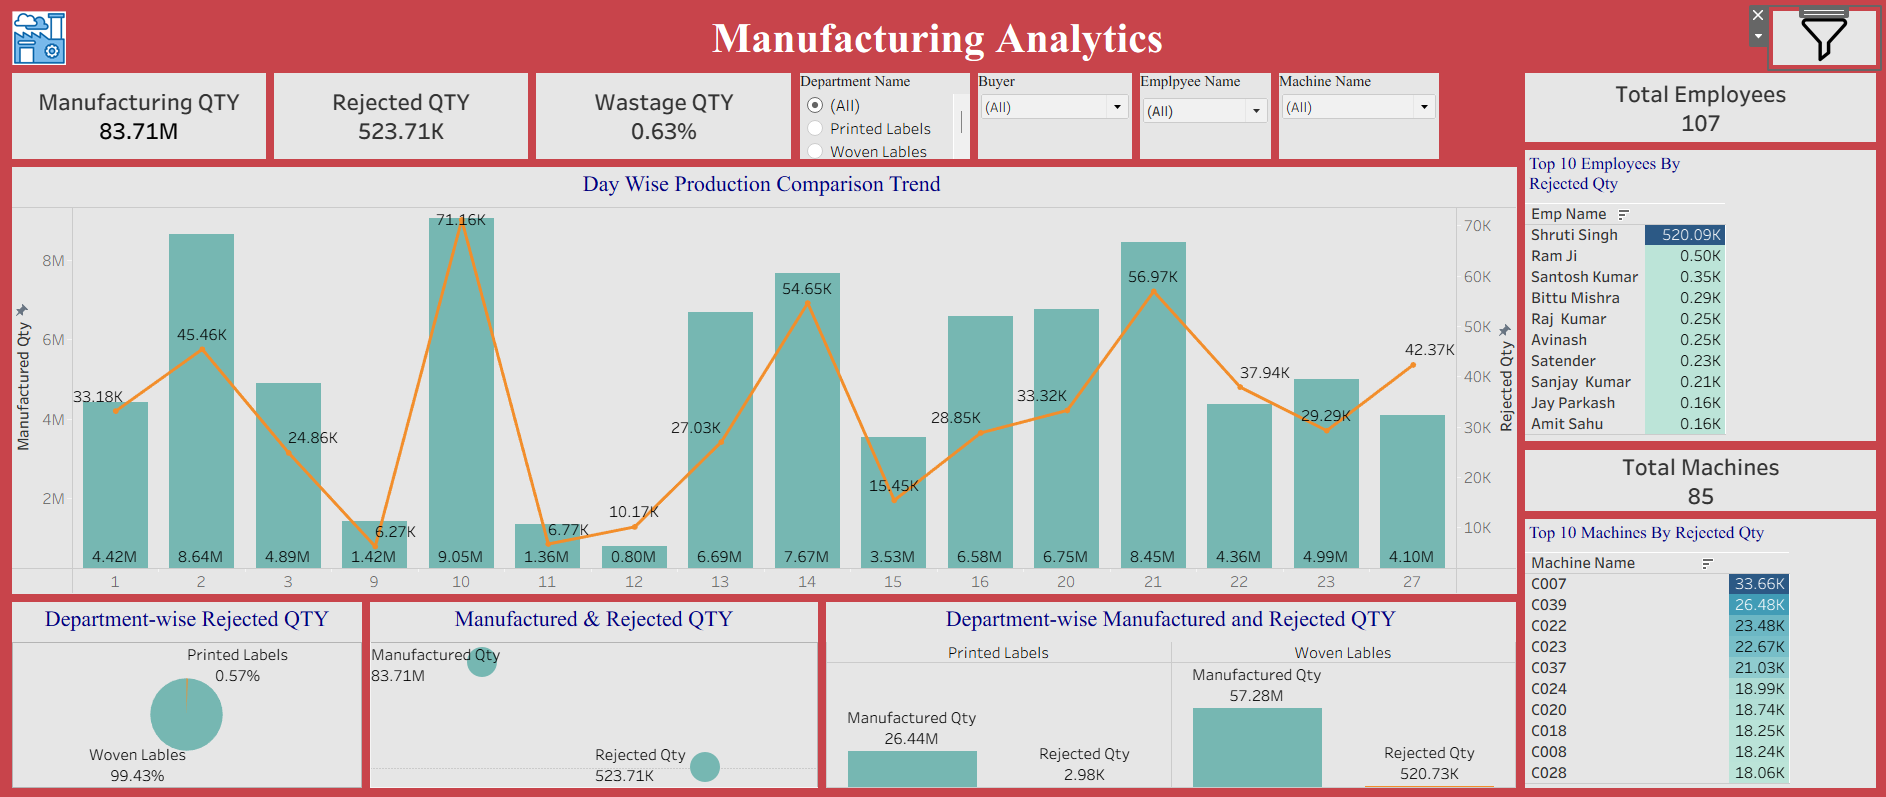

The page's visual inventory and layout, read from the dashboard file:
{"tool":"powerbi","page":{"name":"Page 1","canvas":[1280,720],"ordinal":0},"visuals":[{"type":"shape","box":[11.4,228.6,428.6,242.9],"z":0},{"type":"shape","box":[455.7,481.4,425.7,238.6],"z":1000},{"type":"shape","box":[458.6,227.1,422.9,244.3],"z":2000},{"type":"lineClusteredColumnComboChart","title":"Manufacture Vs Rejected Qty","fields":{"Y2":["Sum(PROD DATA.Rejected Qty)"],"Y":["Sum(PROD DATA.Manufactured Qty)"],"Category":["PROD DATA.Doc Date.Variation.Date Hierarchy.Month","PROD DATA.Doc Date.Variation.Date Hierarchy.Day"]},"box":[11.4,247.1,428.6,207.1],"z":3000},{"type":"clusteredColumnChart","title":"Machine Vs Rejected Qty","fields":{"Category":["PROD DATA.Machine Code"],"Y":["Sum(PROD DATA.Rejected Qty)"]},"box":[457.1,520,425.7,197.1],"z":4000},{"type":"clusteredColumnChart","title":"Department Wise Manufactured Vs Rejected","fields":{"Category":["PROD DATA.Department Name"],"Y":["Sum(PROD DATA.Manufactured Qty)","Sum(PROD DATA.Rejected Qty)"]},"box":[461.4,247.1,420,224.3],"z":5000},{"type":"shape","box":[11.4,481.4,428.6,238.6],"z":6000},{"type":"lineChart","title":"Production Comparison Trend","fields":{"Category":["PROD DATA.Doc Date.Variation.Date Hierarchy.Year","PROD DATA.Doc Date.Variation.Date Hierarchy.Quarter","PROD DATA.Doc Date.Variation.Date Hierarchy.Month","PROD DATA.Doc Date.Variation.Date Hierarchy.Day"],"Y":["Sum(PROD DATA.Rejected Qty)","Sum(PROD DATA.Produced Qty)"]},"box":[22.9,520,400,185.7],"z":7000},{"type":"slicer","fields":{"Values":["PROD DATA.Emp Name"]},"box":[927.7,470.3,300.1,203.4],"z":8000},{"type":"shape","box":[9.7,0,1270.4,107.4],"z":9000},{"type":"shape","box":[10.9,120.6,232.9,94.3],"z":9000,"group":"g2"},{"type":"shape","box":[264.2,121.9,232.9,94.3],"z":9000,"group":"g1"},{"type":"shape","box":[529.6,121.9,232.9,94.3],"z":9000,"group":"g3"},{"type":"shape","box":[921.9,180.3,305.9,265.5],"z":10000},{"type":"card","fields":{"Values":["Sum(PROD DATA.Manufactured Qty)"]},"box":[36.6,146.3,187.1,68.6],"z":11000,"group":"g2"},{"type":"card","fields":{"Values":["Sum(PROD DATA.Rejected Qty)"]},"box":[289.9,147.6,187.1,68.6],"z":11000,"group":"g1"},{"type":"card","fields":{"Values":["Sum(PROD DATA.Wastage QTY)"]},"box":[555.3,147.6,187.1,68.6],"z":11000,"group":"g3"},{"type":"textbox","box":[108.6,228.6,211.4,27.1],"z":11000},{"type":"textbox","box":[514.3,227.1,352.9,27.1],"z":12000},{"type":"textbox","box":[49.3,132.8,182.2,29],"z":13000,"group":"g2"},{"type":"textbox","box":[328.5,133.3,148.6,28.6],"z":13000,"group":"g1"},{"type":"textbox","box":[593.9,133.3,148.6,28.6],"z":13000,"group":"g3"},{"type":"textbox","box":[124.3,492.9,180,27.1],"z":13000},{"type":"textbox","box":[564.3,492.9,210,27.1],"z":14000},{"type":"group","id":"g1","title":"Group 1","box":[264.2,121.9,232.8,94.1],"z":15000},{"type":"group","id":"g2","title":"Group 1","box":[10.9,120.6,232.8,94.1],"z":16000},{"type":"group","id":"g3","title":"Group 1","box":[529.6,121.9,232.8,94.1],"z":17000},{"type":"textbox","box":[380.9,26,546.8,54.8],"z":17001}]}

Visuals, with their boxes on the page's 1280x720 design canvas (x1, y1, x2, y2). These are canvas units, not pixel positions in the 1886x797 screenshot, which may show the page scaled, cropped or inside an application window:
shape: {"left": 11, "top": 229, "right": 440, "bottom": 472}
shape: {"left": 456, "top": 481, "right": 881, "bottom": 720}
shape: {"left": 459, "top": 227, "right": 882, "bottom": 471}
"Manufacture Vs Rejected Qty" lineClusteredColumnComboChart: {"left": 11, "top": 247, "right": 440, "bottom": 454}
"Machine Vs Rejected Qty" clusteredColumnChart: {"left": 457, "top": 520, "right": 883, "bottom": 717}
"Department Wise Manufactured Vs Rejected" clusteredColumnChart: {"left": 461, "top": 247, "right": 881, "bottom": 471}
shape: {"left": 11, "top": 481, "right": 440, "bottom": 720}
"Production Comparison Trend" lineChart: {"left": 23, "top": 520, "right": 423, "bottom": 706}
slicer - PROD DATA.Emp Name: {"left": 928, "top": 470, "right": 1228, "bottom": 674}
shape: {"left": 10, "top": 0, "right": 1280, "bottom": 107}
shape: {"left": 11, "top": 121, "right": 244, "bottom": 215}
shape: {"left": 264, "top": 122, "right": 497, "bottom": 216}
shape: {"left": 530, "top": 122, "right": 762, "bottom": 216}
shape: {"left": 922, "top": 180, "right": 1228, "bottom": 446}
card - Sum(PROD DATA.Manufactured Qty): {"left": 37, "top": 146, "right": 224, "bottom": 215}
card - Sum(PROD DATA.Rejected Qty): {"left": 290, "top": 148, "right": 477, "bottom": 216}
card - Sum(PROD DATA.Wastage QTY): {"left": 555, "top": 148, "right": 742, "bottom": 216}
textbox: {"left": 109, "top": 229, "right": 320, "bottom": 256}
textbox: {"left": 514, "top": 227, "right": 867, "bottom": 254}
textbox: {"left": 49, "top": 133, "right": 232, "bottom": 162}
textbox: {"left": 328, "top": 133, "right": 477, "bottom": 162}
textbox: {"left": 594, "top": 133, "right": 742, "bottom": 162}
textbox: {"left": 124, "top": 493, "right": 304, "bottom": 520}
textbox: {"left": 564, "top": 493, "right": 774, "bottom": 520}
"Group 1" group: {"left": 264, "top": 122, "right": 497, "bottom": 216}
"Group 1" group: {"left": 11, "top": 121, "right": 244, "bottom": 215}
"Group 1" group: {"left": 530, "top": 122, "right": 762, "bottom": 216}
textbox: {"left": 381, "top": 26, "right": 928, "bottom": 81}
